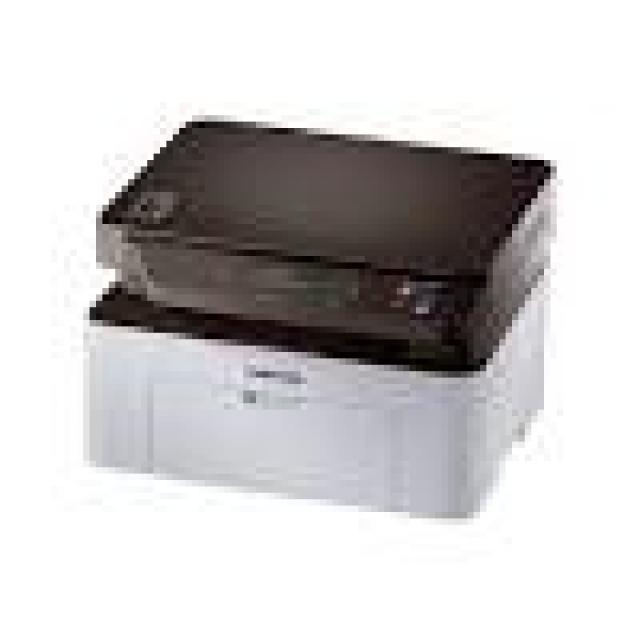printer: (60, 104, 568, 532)
